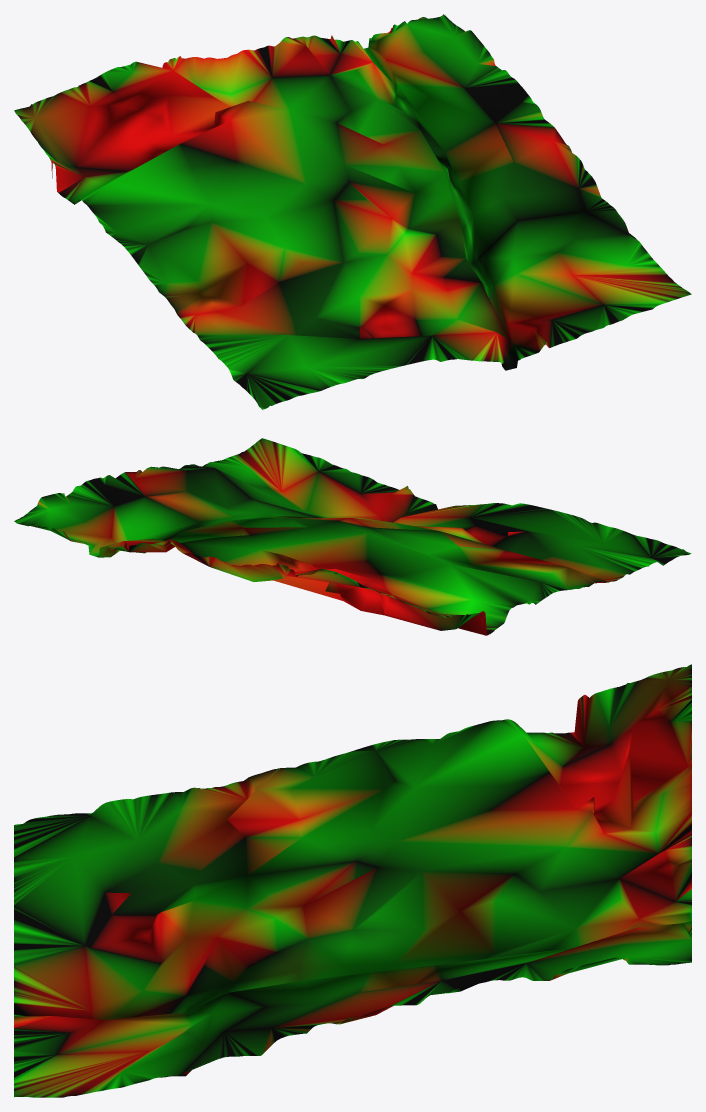
File: N_2_2_anel.glb
3 views of the same model, one above another, from view 1: azimuth 30°, elevation 25°; view 2: azimuth 150°, elevation 25°; view 3: azimuth 270°, elevation 25° (orthographic). The views are drawn at different scales.
Visible parts, largest first — view 1: N_2_2; view 2: N_2_2; view 3: N_2_2.
Boxes of the visible parts, x1=… form: N_2_2: x1=14, y1=14, x2=691, y2=409; N_2_2: x1=14, y1=438, x2=691, y2=635; N_2_2: x1=14, y1=664, x2=691, y2=1097.
Bounding box in the file's own units: 256 × 89.47 × 256.
